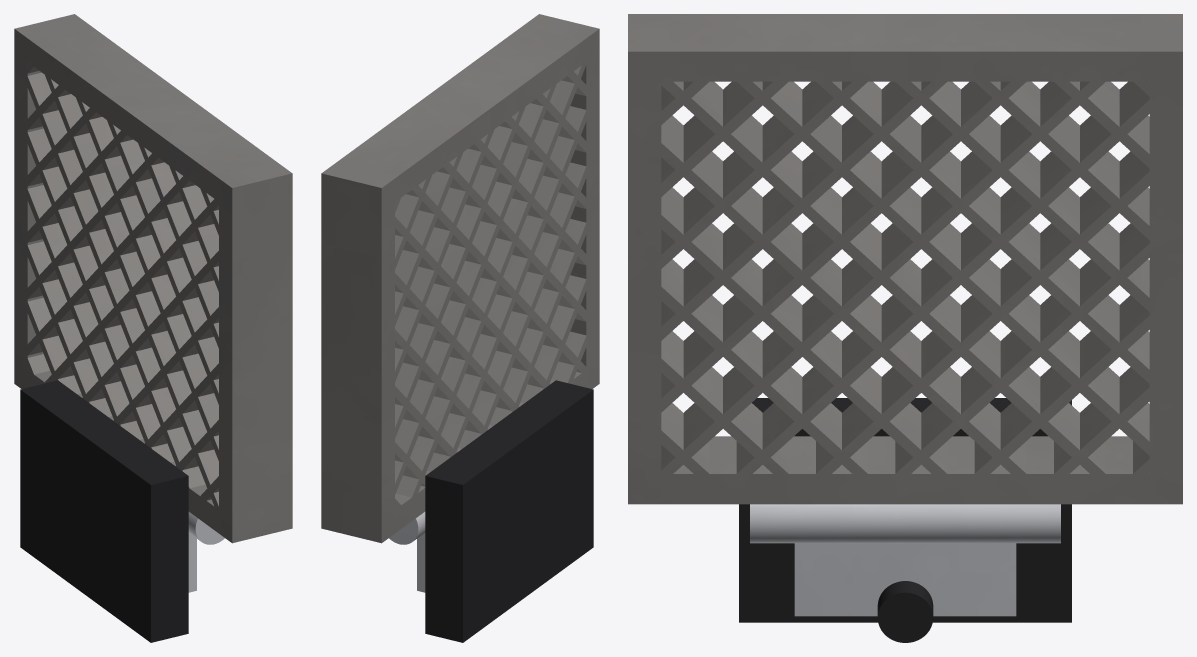
File: stage10_grid_fin_s.glb
3 renders of one model, left to right at view 1: azimuth 30°, elevation 25°; view 2: azimuth 150°, elevation 25°; view 3: azimuth 270°, elevation 25°, orthographic. The views are drawn at different scales.
Visible parts, largest first — view 1: lattice_panel, mount_plate, hinge; view 2: lattice_panel, mount_plate, hinge; view 3: lattice_panel, hinge, mount_plate, actuator.
Boxes of the visible parts, x1,y1,x2,y2 form: lattice_panel: [14, 14, 292, 543]; mount_plate: [20, 380, 188, 642]; hinge: [188, 512, 224, 592]; lattice_panel: [321, 14, 599, 543]; mount_plate: [425, 380, 593, 642]; hinge: [389, 512, 425, 592]; lattice_panel: [628, 14, 1182, 504]; hinge: [750, 504, 1060, 616]; mount_plate: [739, 398, 1071, 622]; actuator: [877, 581, 933, 642].
Size of the model in its own units: 0.13 by 0.605 by 0.5.
Materials: 3 (2 with a texture image).
